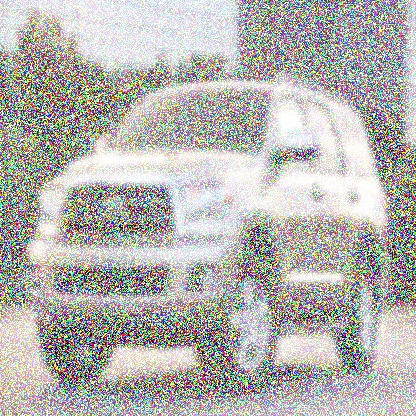Vehicle: (26, 67, 395, 386)
